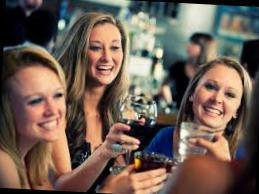Drunk: (17, 68, 66, 141), (197, 72, 241, 125), (86, 28, 118, 82)
